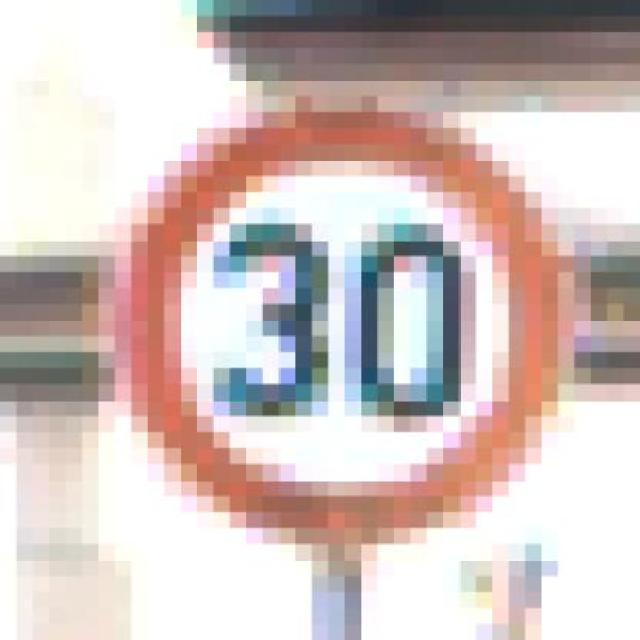Speed Limit 30 KMPh: (49, 80, 623, 560)
